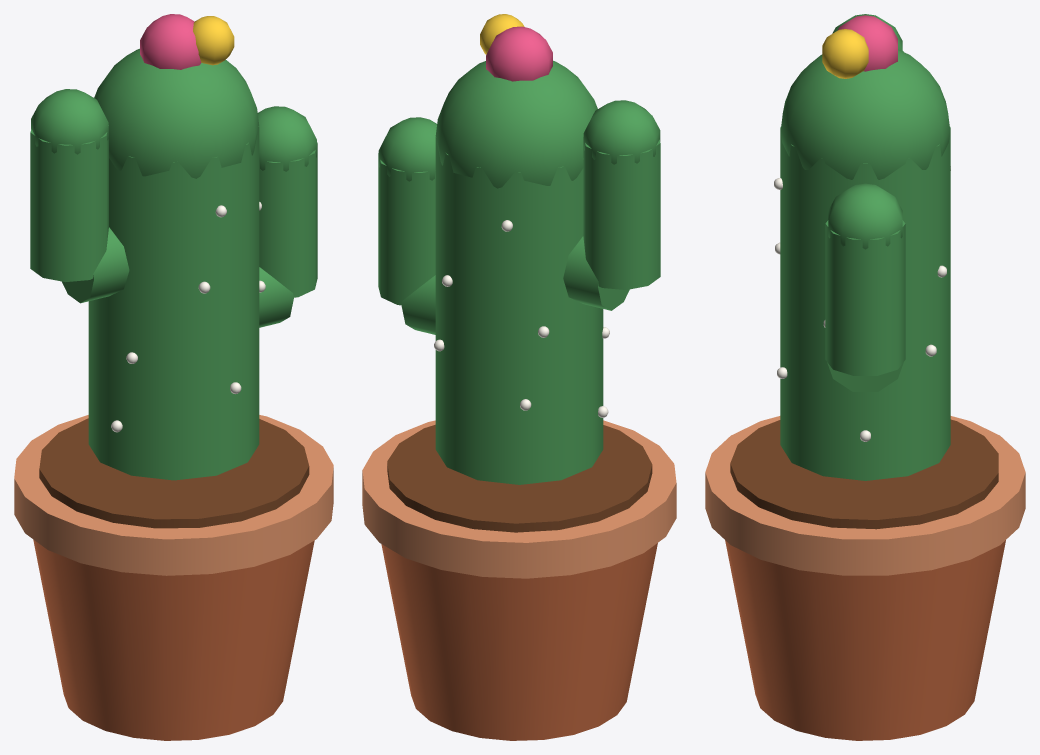
The model's file is plant-cactus.glb.
The picture shows the model from 3 angles, left to right: view 1: azimuth 30°, elevation 25°; view 2: azimuth 150°, elevation 25°; view 3: azimuth 270°, elevation 25°; orthographic projection.
Size of the model in its own units: 0.636 by 1.49 by 0.64.
